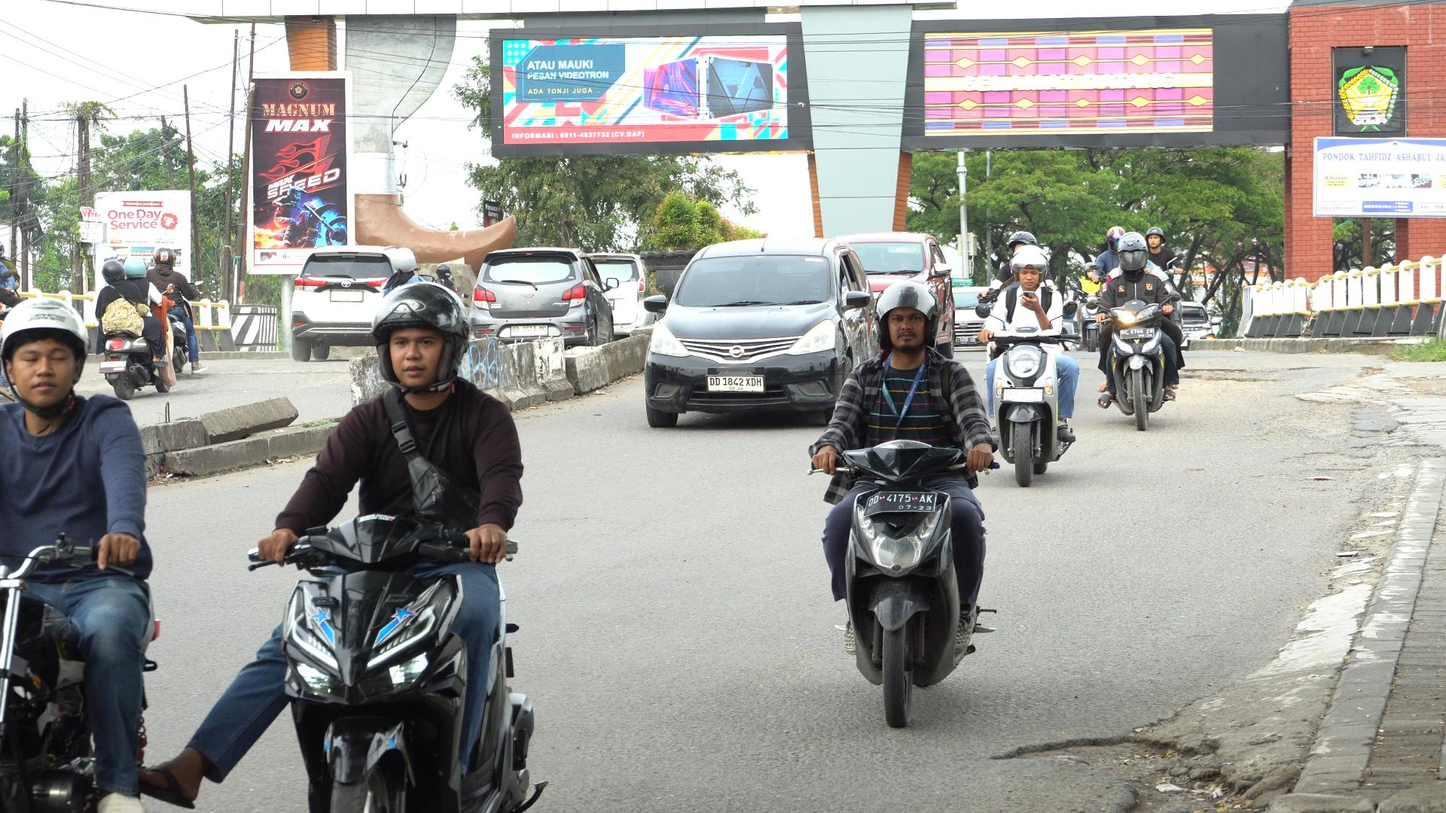number-plate: (866, 488, 937, 523), (1118, 324, 1157, 342)
